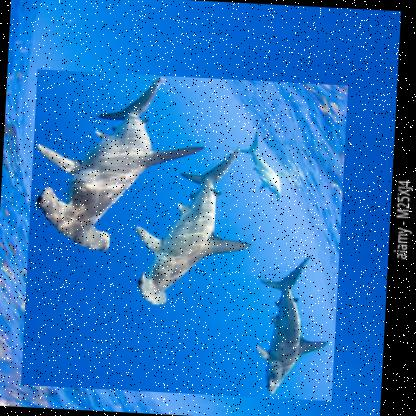hammerhead_Shark: (20, 67, 348, 400)
